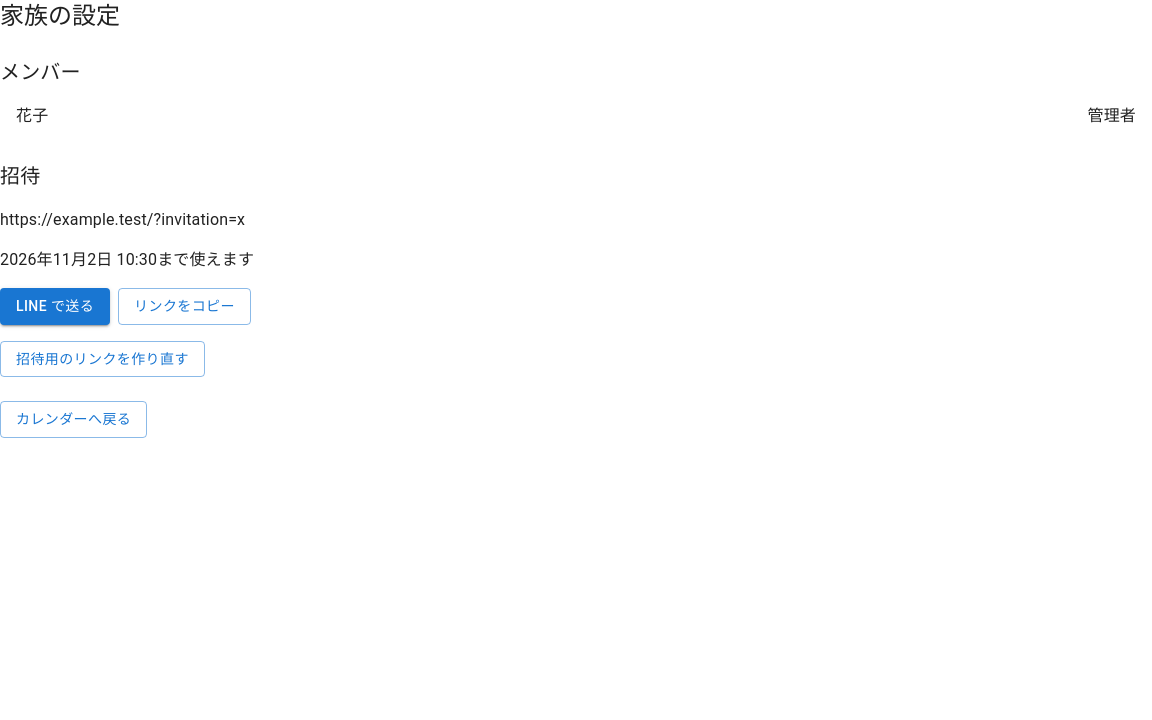
Test case: FamilySettingsPage › 作り直しの確認で「やめる」を押すと何も変わらない
This screenshot has width=1152, height=720.
Click the button with test id "regenerate-button" at point(102, 359), box [0,340,205,377]
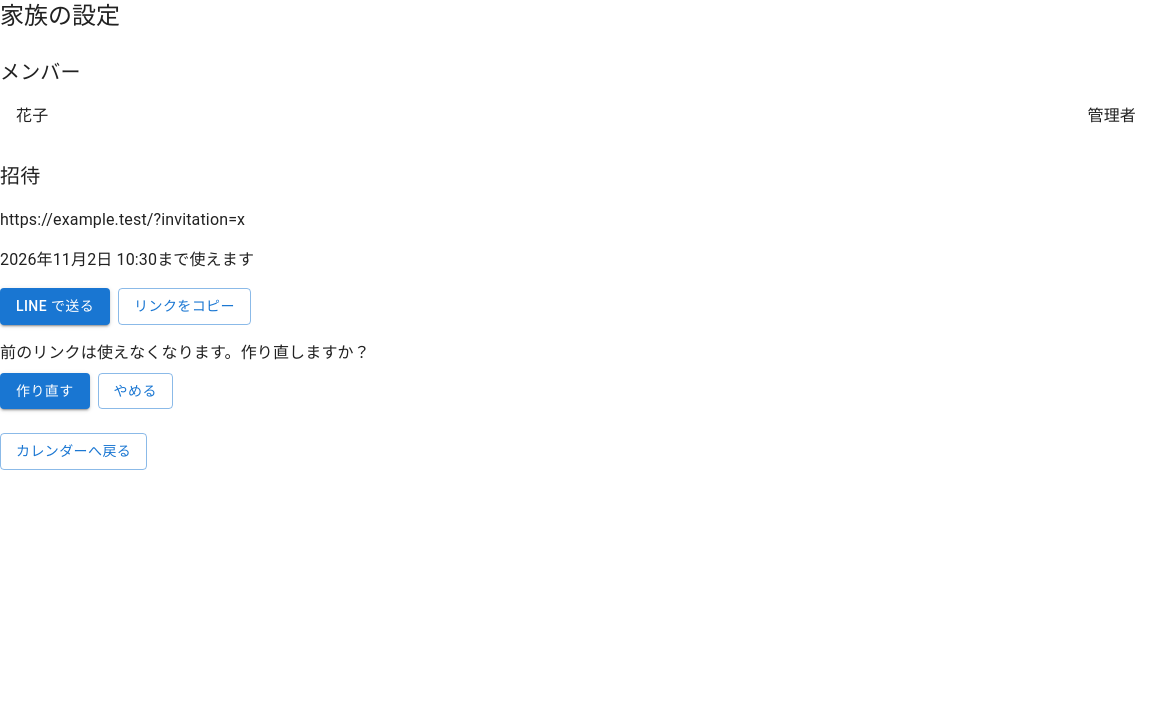
Expected: the button with test id "regenerate-button" is gone
Click the button with test id "regenerate-cancel-button" at point(135, 391), box [98,372,173,409]
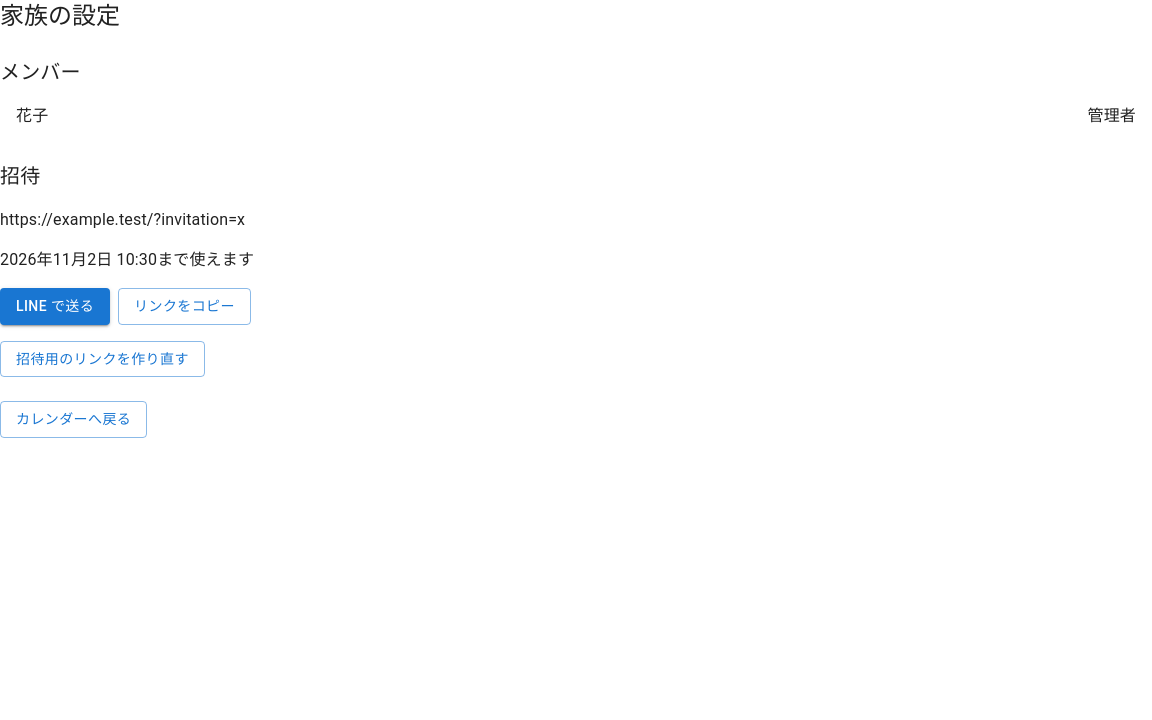
Expected: the text with test id "invitation-url" reads "https://example.test/?invitation=x", [0,210,245,229]
Expected: the dialog with test id "regenerate-confirm" is gone
Expected: the button with test id "regenerate-button" is shown, [0,340,205,377]
